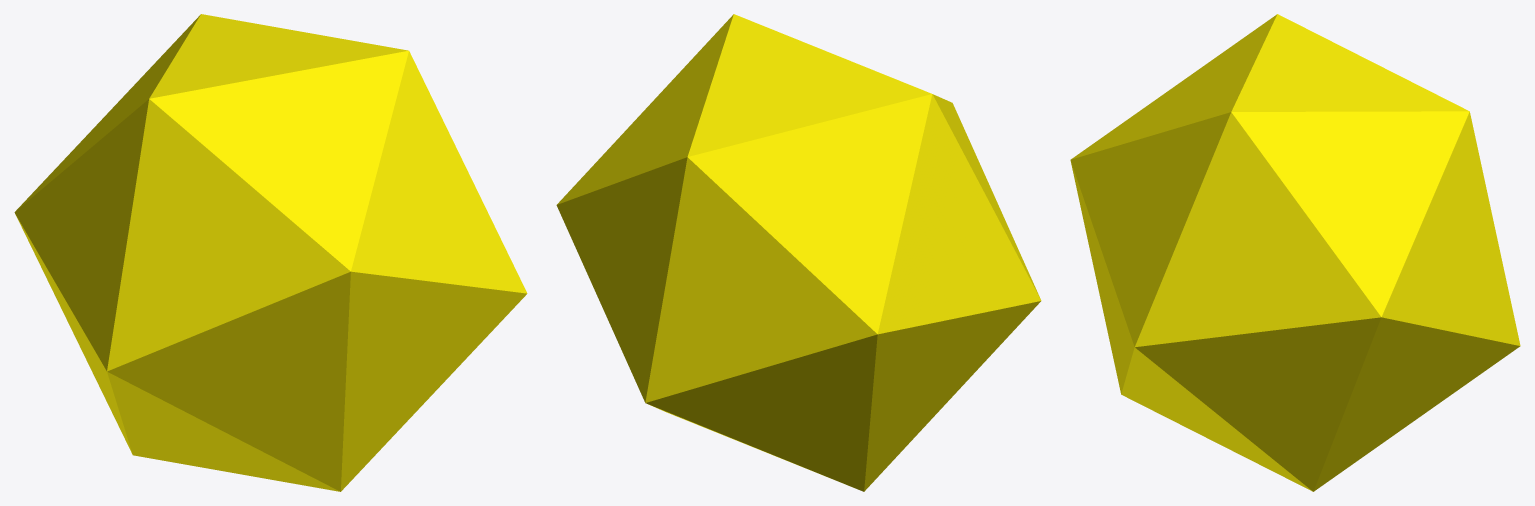
Rendered from Obj_YellowIco.glb.
3 views of the same model, side by side, from view 1: azimuth 30°, elevation 25°; view 2: azimuth 150°, elevation 25°; view 3: azimuth 270°, elevation 25° (orthographic). The views are drawn at different scales.
Visible parts, largest first — view 1: Obj_YellowIco; view 2: Obj_YellowIco; view 3: Obj_YellowIco.
Part boxes in pixels (<box>): Obj_YellowIco: <box>14,14,527,491</box>; Obj_YellowIco: <box>556,14,1041,491</box>; Obj_YellowIco: <box>1070,14,1520,491</box>.
Size of the model in its own units: 0.0833 by 0.0765 by 0.0831.
